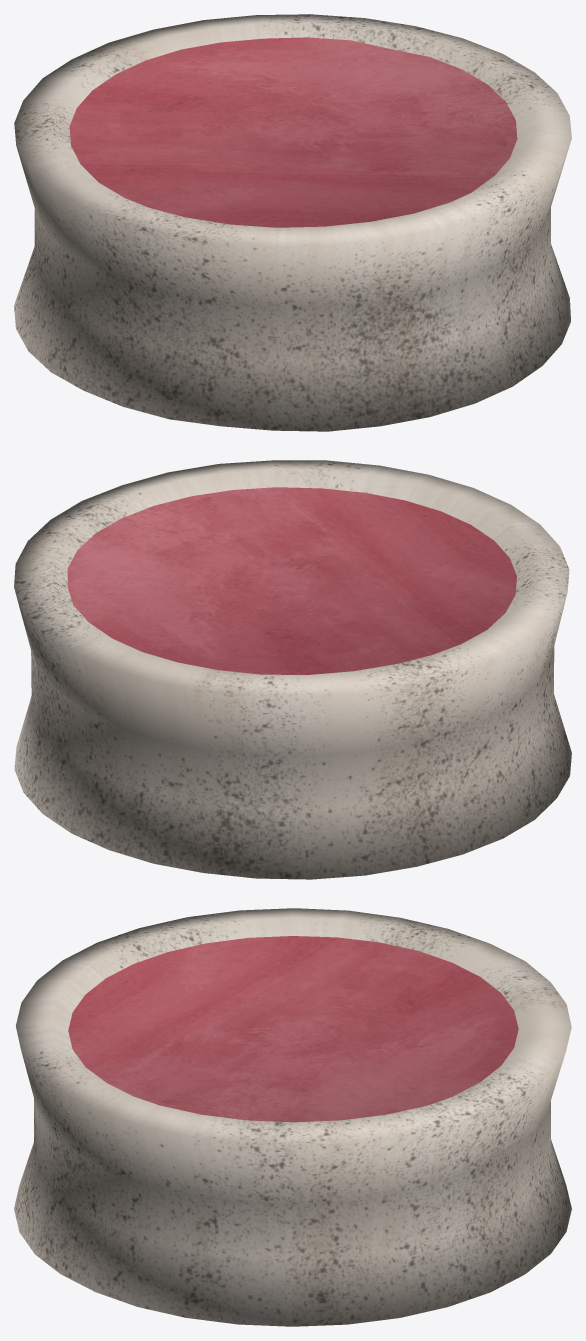
File: bonemarrow-floatingplatform.fbx
3 views of the same model, one above another, from view 1: azimuth 30°, elevation 25°; view 2: azimuth 150°, elevation 25°; view 3: azimuth 270°, elevation 25° (orthographic).
Visible parts, largest first — view 1: Circle; view 2: Circle; view 3: Circle.
Boxes of the visible parts, x1,y1,x2,y2 form: Circle: (14, 14, 571, 431); Circle: (14, 460, 571, 879); Circle: (14, 908, 571, 1326).
Size of the model in its own units: 314 by 122 by 314.
